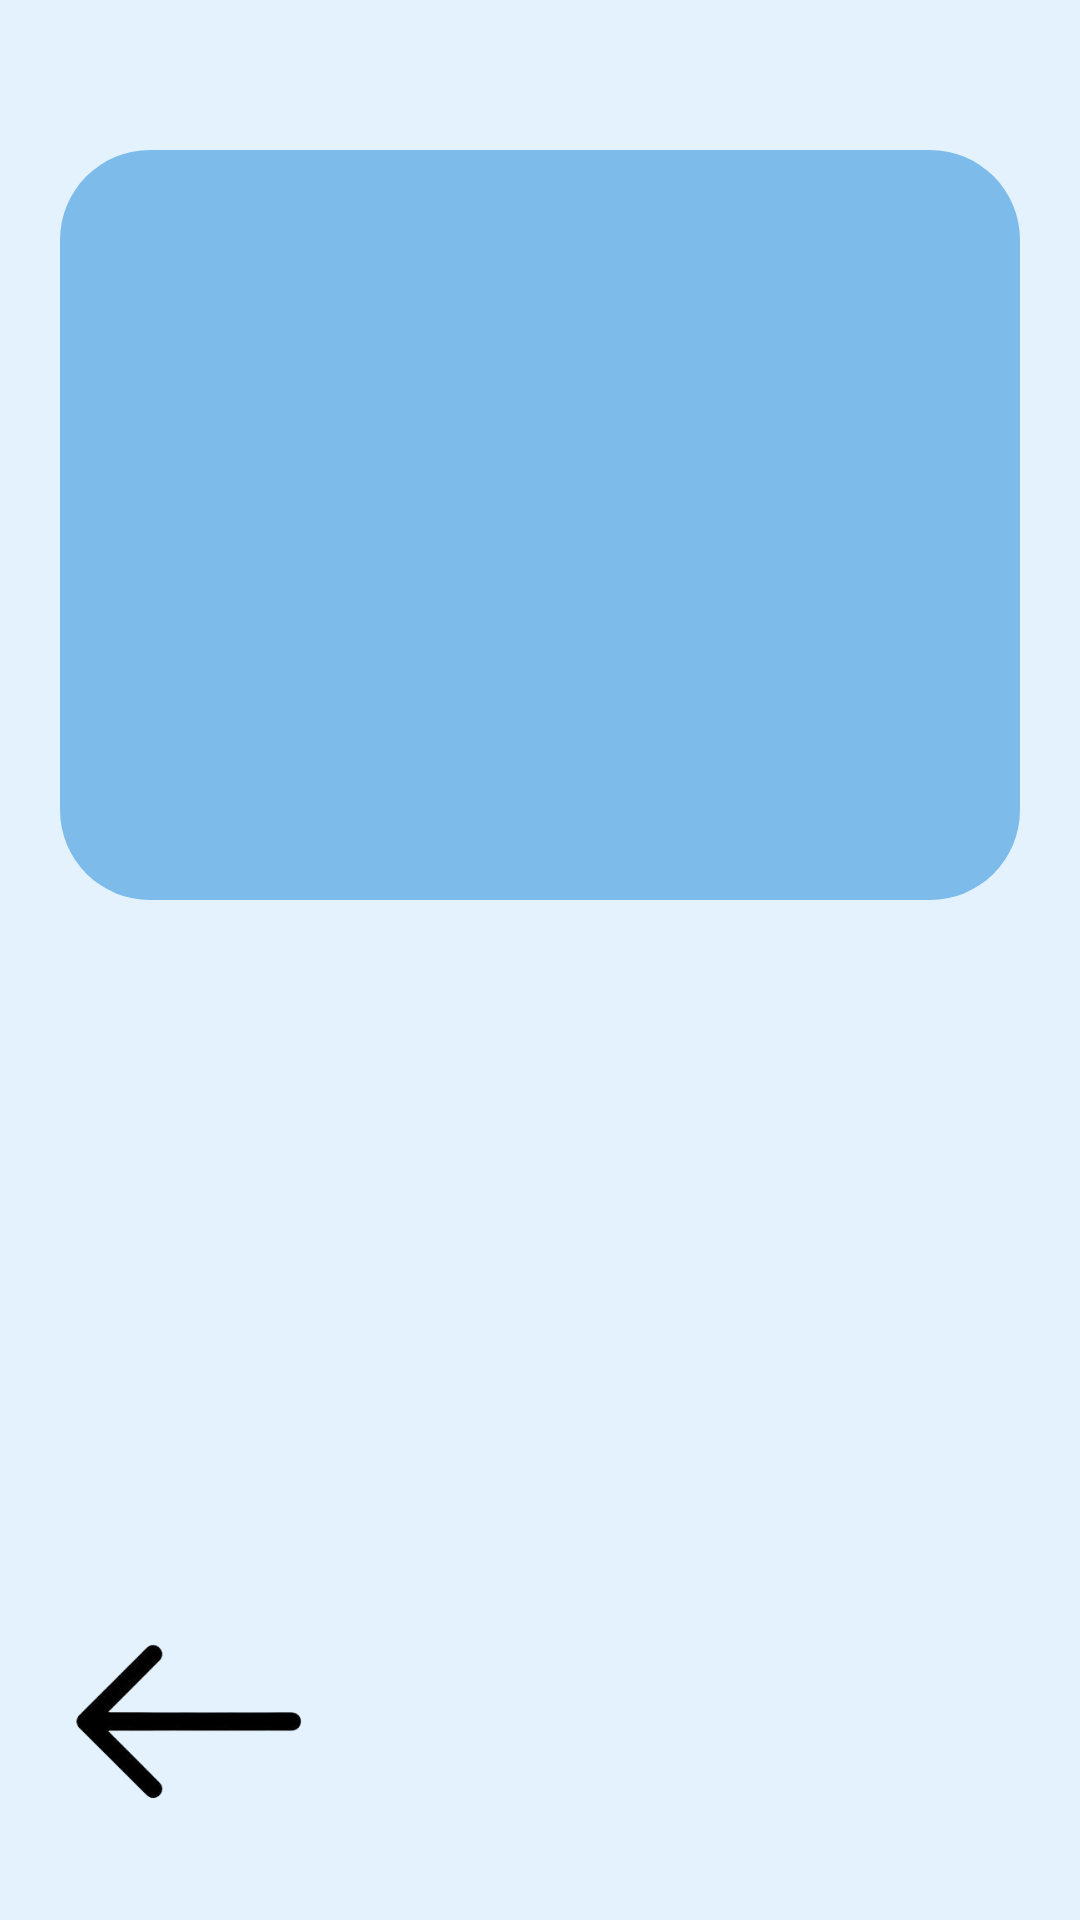

Where icons sit on this 1080px×1920px app screen, as (x1, y1, x2, y2):
arrow left: (76, 1645, 301, 1798)
